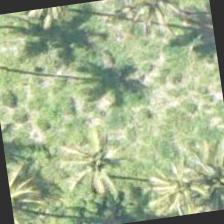Kelapa_Sawit: (46, 108, 148, 210), (118, 146, 216, 223), (107, 0, 204, 50), (164, 135, 223, 217)
